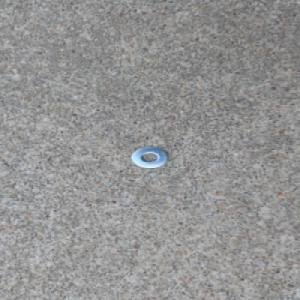Washer: (129, 146, 168, 168)
